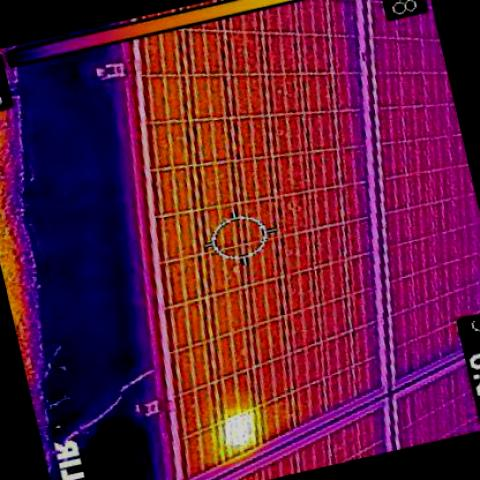fault: (226, 409, 256, 445)
